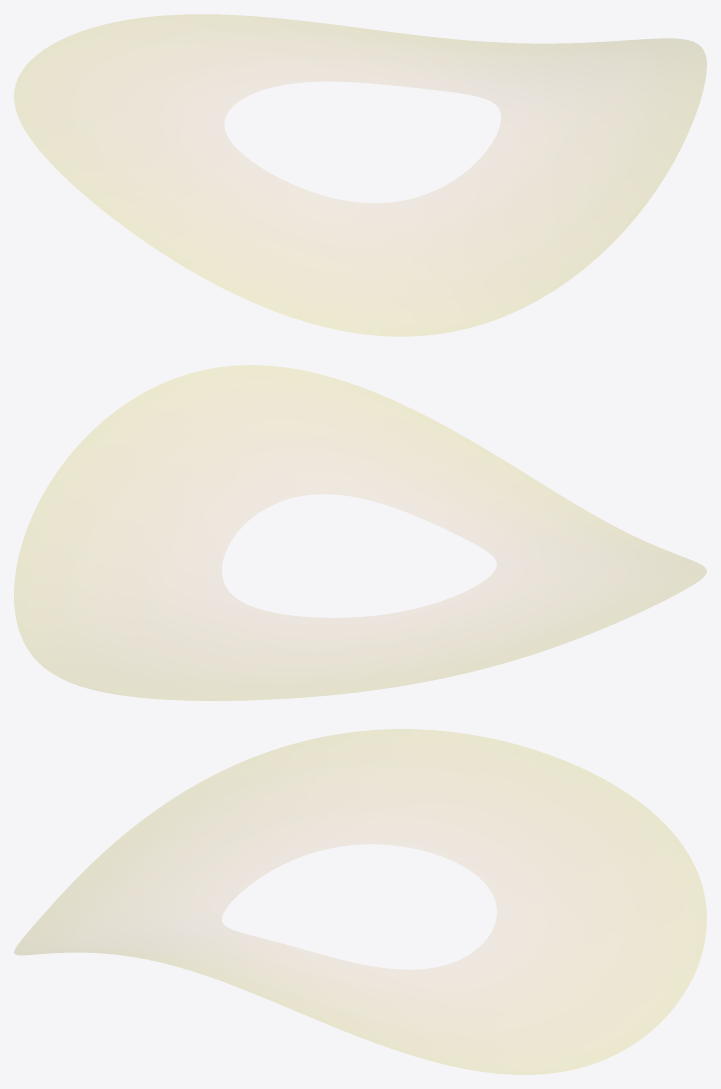
Rendered from synthetic-coconut-corona.glb.
3 renders of one model, top to bottom at view 1: azimuth 30°, elevation 25°; view 2: azimuth 150°, elevation 25°; view 3: azimuth 270°, elevation 25°, orthographic.
Parts seen in each view (by area): view 1: inner-corona; view 2: inner-corona; view 3: inner-corona.
Boxes of the visible parts, x1,y1,x2,y2 form: inner-corona: [14, 14, 706, 336]; inner-corona: [14, 365, 706, 700]; inner-corona: [14, 729, 706, 1074].
Size of the model in its own units: 5.44 by 1.08 by 5.44.
